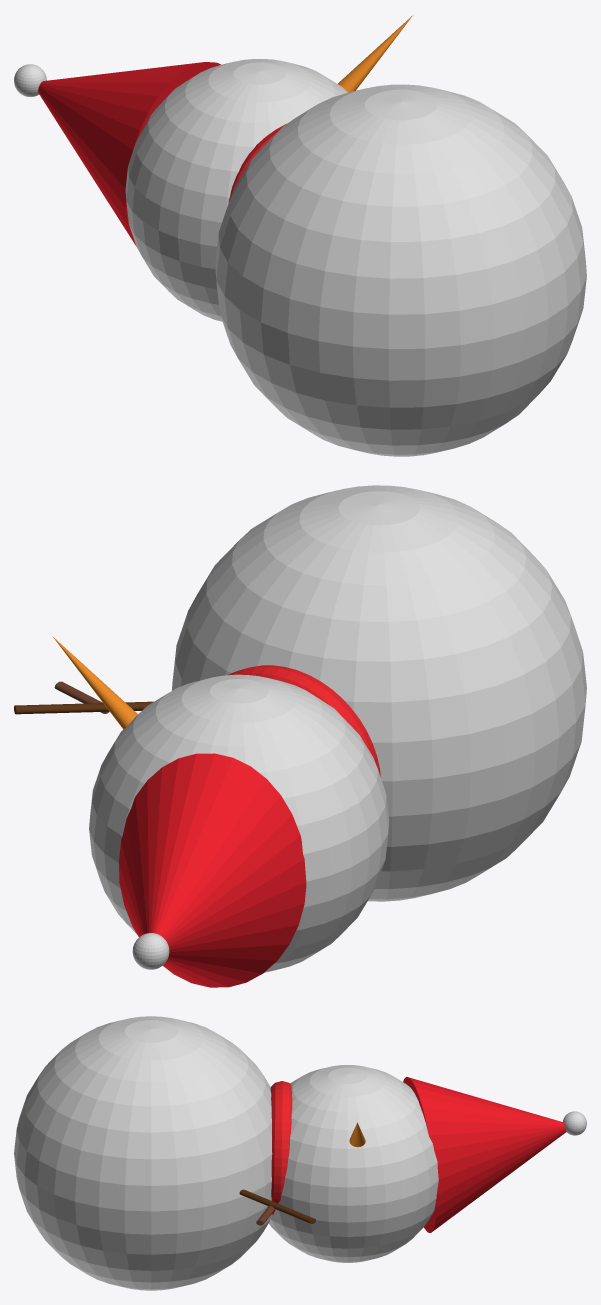
File: snowman.glb
3 views of the same model, one above another, from view 1: azimuth 30°, elevation 25°; view 2: azimuth 150°, elevation 25°; view 3: azimuth 270°, elevation 25° (orthographic). The views are drawn at different scales.
Visible parts, largest first — view 1: 球, 球.001, 円錐, 円錐.001, 球.002; view 2: 球, 球.001, 円錐, トーラス, 円錐.001, 球.002, 円柱; view 3: 球, 球.001, 円錐, トーラス, 円柱, 球.002.
Boxes of the visible parts, x1,y1,x2,y2 form: 球: [215, 84, 586, 456]; 球.001: [125, 59, 347, 321]; 円錐: [38, 62, 220, 246]; 円錐.001: [338, 15, 412, 92]; 球.002: [14, 64, 46, 96]; 球: [172, 485, 586, 901]; 球.001: [89, 674, 389, 972]; 円錐: [119, 753, 306, 987]; トーラス: [228, 665, 380, 777]; 円錐.001: [52, 636, 137, 729]; 球.002: [132, 933, 169, 969]; 円柱: [14, 701, 153, 714]; 球: [14, 1016, 272, 1290]; 球.001: [269, 1065, 438, 1262]; 円錐: [403, 1077, 566, 1232]; トーラス: [270, 1081, 292, 1214]; 円柱: [239, 1189, 316, 1223]; 球.002: [563, 1111, 586, 1135].
Bounding box in the file's own units: 5.23 × 4.44 × 9.26.
